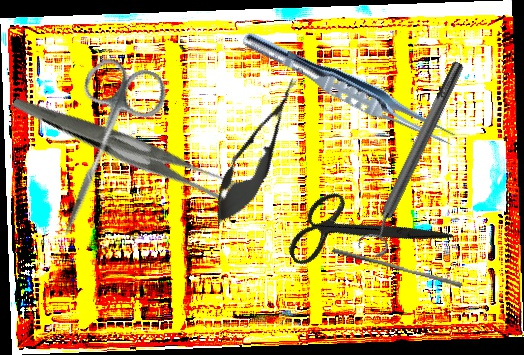Dressing Forceps: (10, 36, 245, 256)
Fixation Ring: (353, 56, 476, 261)
Iris Scissors: (272, 149, 455, 315), (29, 50, 174, 251)
Micro Scissor: (201, 68, 313, 236)
Pusher: (330, 248, 464, 288)
Tissue Forceps: (236, 25, 464, 154)
